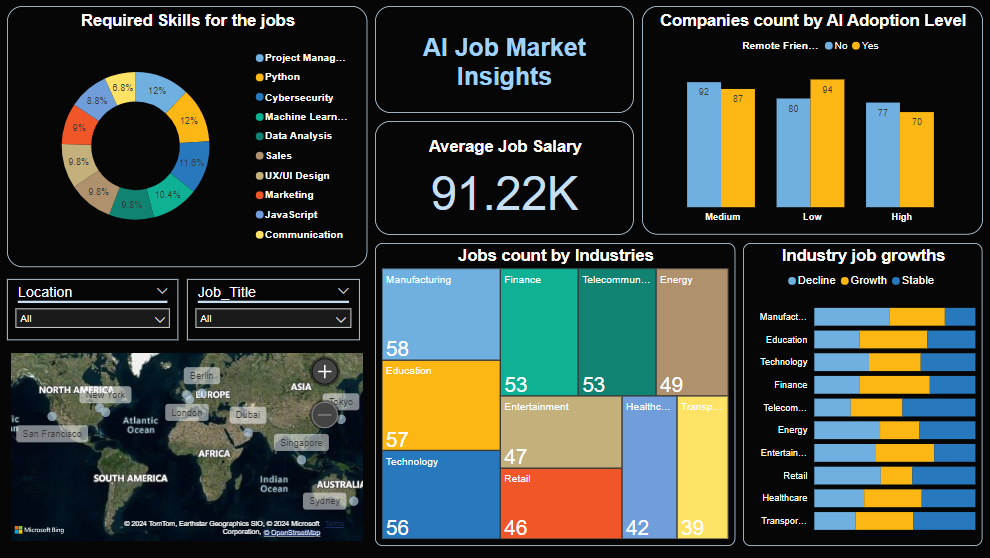

The page's visual inventory and layout, read from the dashboard file:
{"tool":"powerbi","page":{"name":"Page 1","canvas":[1280,720],"ordinal":0},"visuals":[{"type":"clusteredColumnChart","title":"Companies count by AI Adoption Level","fields":{"Category":["ai_job_market_insights.AI_Adoption_Level"],"Series":["ai_job_market_insights.Remote_Friendly"],"Y":["CountNonNull(ai_job_market_insights.Company_Size)"]},"box":[829.2,8.3,439.7,295],"z":0},{"type":"map","fields":{"Category":["ai_job_market_insights.Location"]},"box":[9.7,450.8,464.7,253.2],"z":1000},{"type":"donutChart","title":"Required Skills for the jobs","fields":{"Category":["ai_job_market_insights.Required_Skills"],"Y":["CountNonNull(ai_job_market_insights.Job_Title)"]},"box":[9.7,8.3,464.7,336.7],"z":2000},{"type":"treemap","title":"Jobs count by Industries","fields":{"Group":["ai_job_market_insights.Industry"],"Values":["CountNonNull(ai_job_market_insights.Job_Title)"]},"box":[485.6,313,464.7,391],"z":3000},{"type":"slicer","fields":{"Values":["ai_job_market_insights.Location"]},"box":[9.7,360.3,221.2,79.3],"z":4000},{"type":"slicer","fields":{"Values":["ai_job_market_insights.Job_Title"]},"box":[242.1,360.3,222.6,79.3],"z":5000},{"type":"hundredPercentStackedBarChart","title":"Industry job growths","fields":{"Series":["ai_job_market_insights.Job_Growth_Projection"],"Y":["CountNonNull(ai_job_market_insights.Job_Title)"],"Category":["ai_job_market_insights.Industry"]},"box":[960,313,308.9,391],"z":6000},{"type":"card","title":"Average Job Salary","fields":{"Values":["Avg(ai_job_market_insights.Salary_USD)"]},"box":[485.6,155.8,333.9,147.5],"z":7000},{"type":"textbox","box":[485.6,8.3,333.9,137.7],"z":8000}]}

Visuals, with their boxes in screenshot pixels (x1, y1, x2, y2), scaled from the page's 1280x720 canvas onto the 990x558 screenshot:
"Companies count by AI Adoption Level" clusteredColumnChart: bbox(641, 6, 981, 235)
map - ai_job_market_insights.Location: bbox(8, 349, 367, 546)
"Required Skills for the jobs" donutChart: bbox(8, 6, 367, 267)
"Jobs count by Industries" treemap: bbox(376, 243, 735, 546)
slicer - ai_job_market_insights.Location: bbox(8, 279, 179, 341)
slicer - ai_job_market_insights.Job_Title: bbox(187, 279, 359, 341)
"Industry job growths" hundredPercentStackedBarChart: bbox(742, 243, 981, 546)
"Average Job Salary" card: bbox(376, 121, 634, 235)
textbox: bbox(376, 6, 634, 113)
